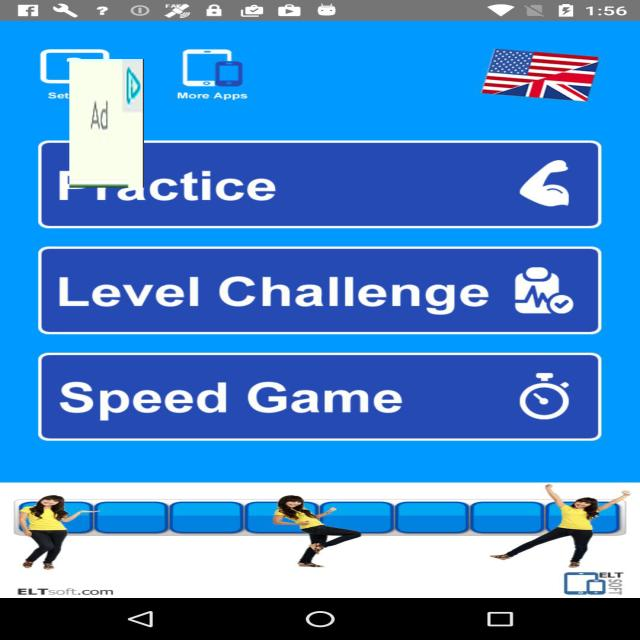sneaking: (69, 59, 144, 188)
